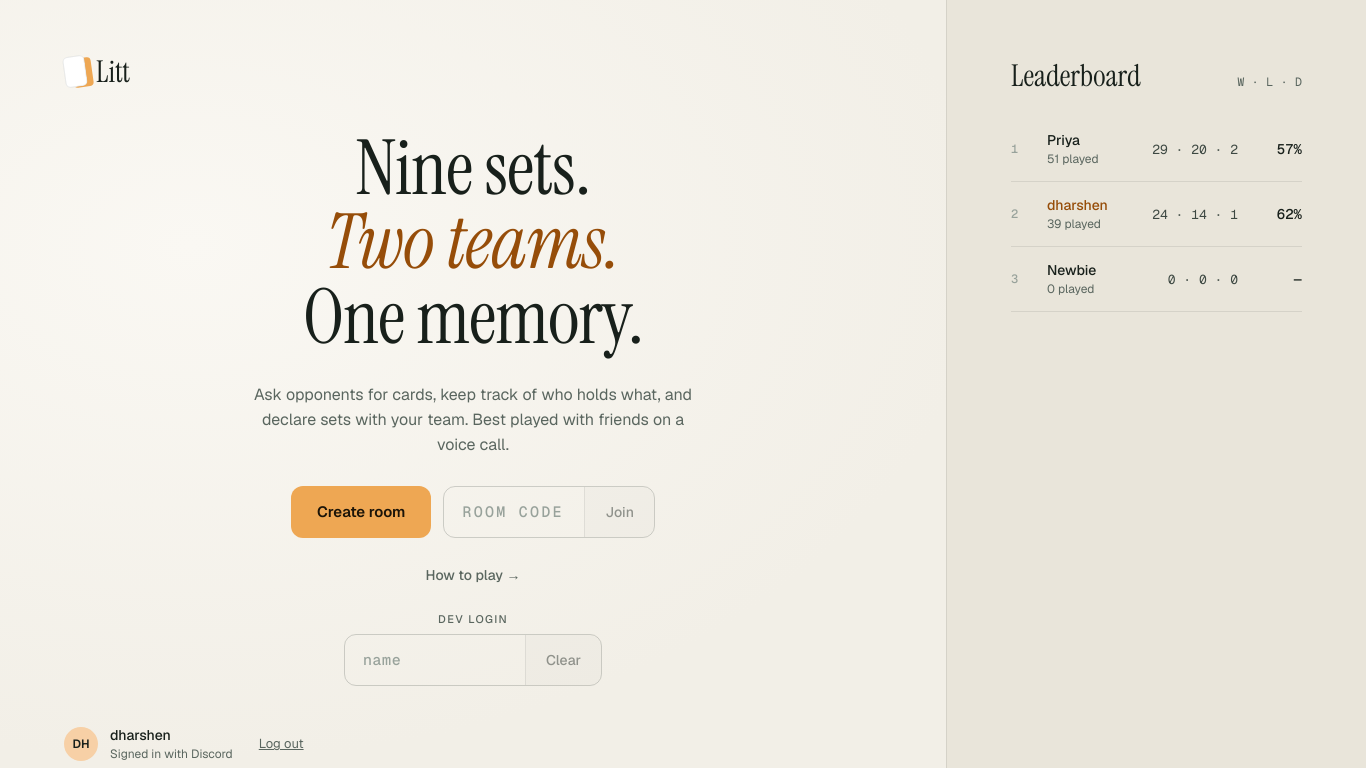
Test: Home: logged in › upper-cases the room code, and only enables Join from 4 characters
Expected: the button "Join" is disabled, [584,487,654,537]
Type "ab-c" into the field labelled "ROOM CODE" at {"x": 514, "y": 512}, box [444,487,584,537]
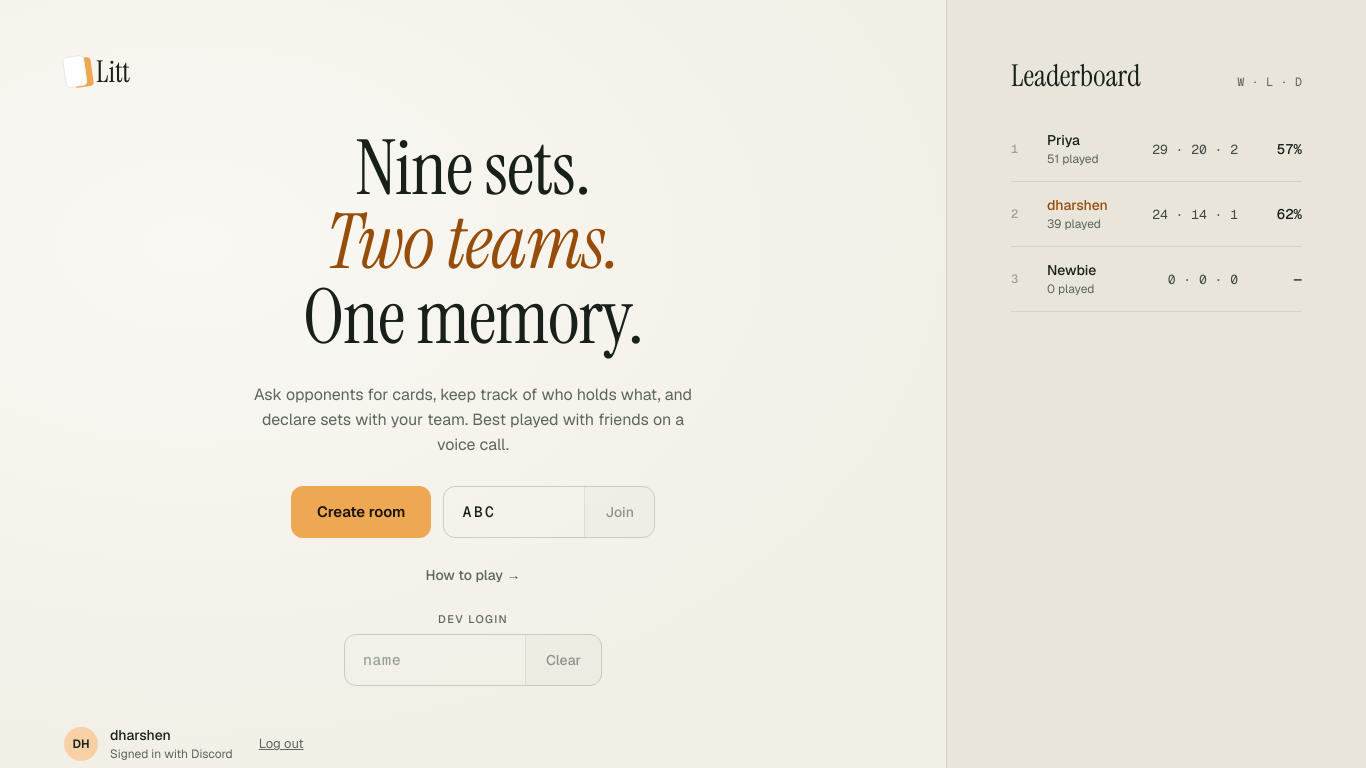
Expected: the button "Join" is disabled, [584,487,654,537]
Expected: the field named "ROOM CODE" holds "ABC"
Replace the text in the field named "ROOM CODE" with "k7qx" at {"x": 514, "y": 512}, box [444,487,584,537]
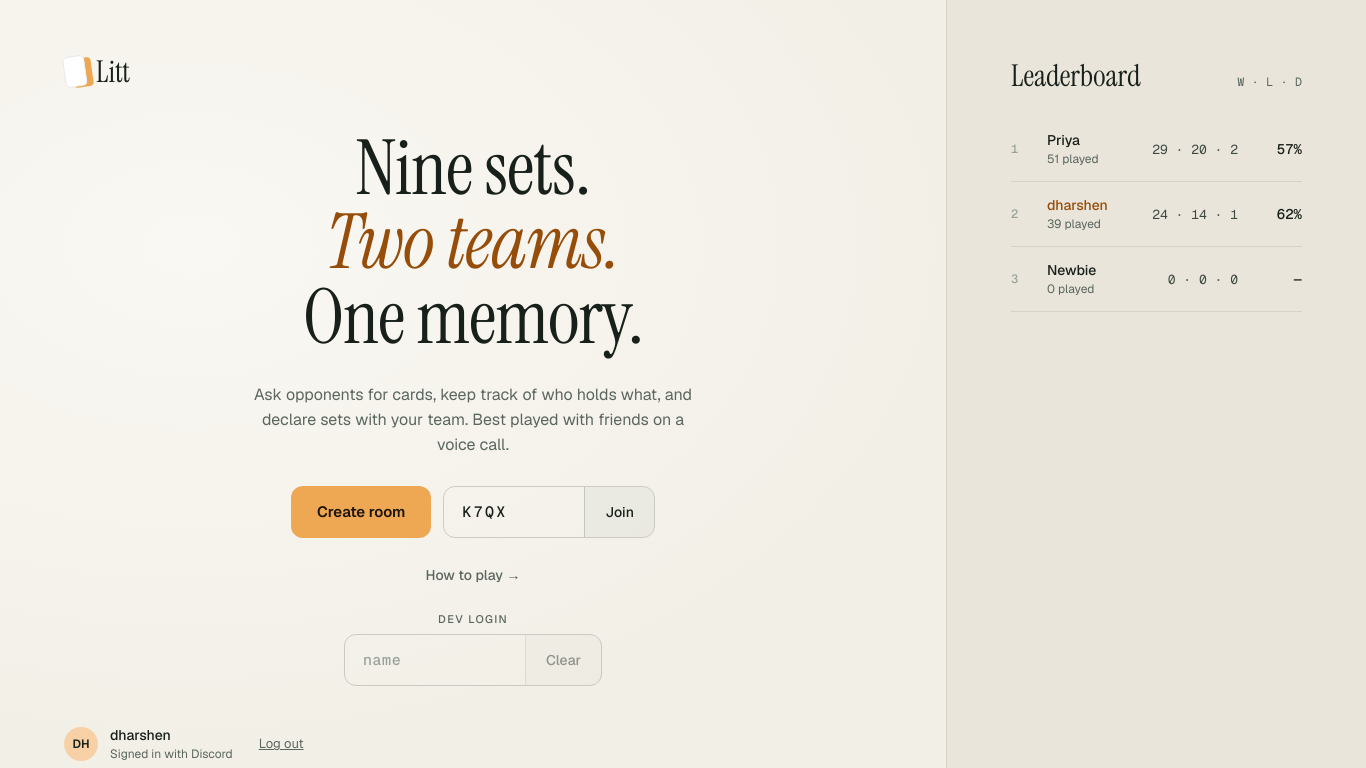
Expected: the button "Join" is enabled, [584,487,654,537]
